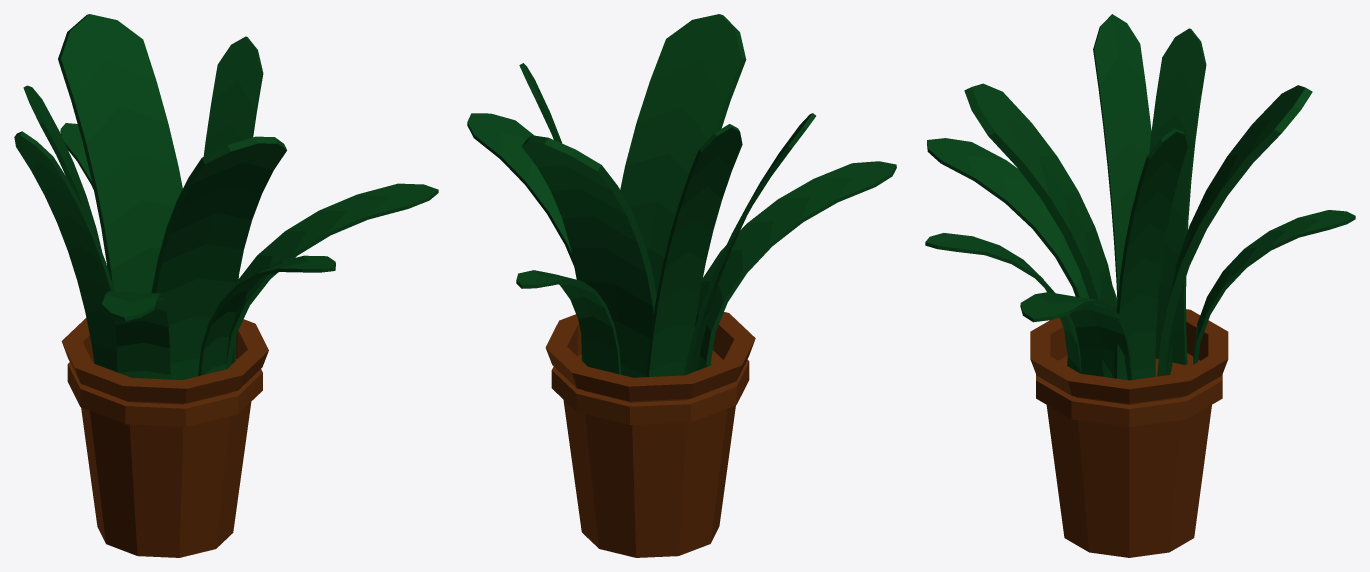
Rendered from Green plant.FBX.
3 views of the same model, side by side, from view 1: azimuth 30°, elevation 25°; view 2: azimuth 150°, elevation 25°; view 3: azimuth 270°, elevation 25° (orthographic).
Parts seen in each view (by area): view 1: Plane002, Cylinder001; view 2: Plane002, Cylinder001; view 3: Plane002, Cylinder001.
Part boxes in pixels (box(x1,y1,x2,y2)): Plane002: box(14, 14, 438, 379); Cylinder001: box(61, 318, 268, 557); Plane002: box(467, 14, 896, 377); Cylinder001: box(545, 312, 755, 557); Plane002: box(925, 14, 1355, 380); Cylinder001: box(1030, 309, 1228, 557).
Bounding box in the file's own units: 74.15 × 84.25 × 72.88.
